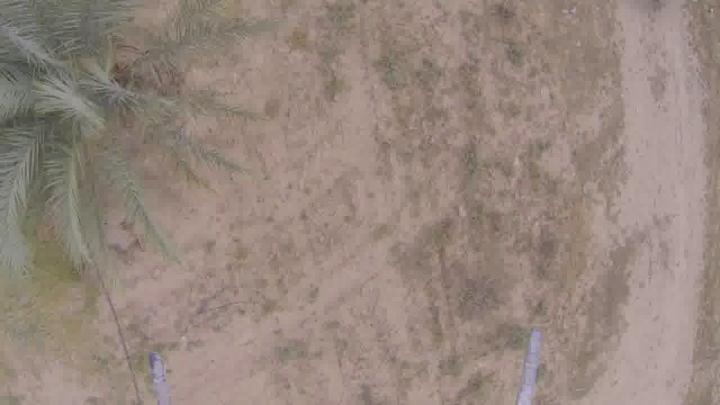Date-Palm-Crown: (0, 0, 142, 232)
